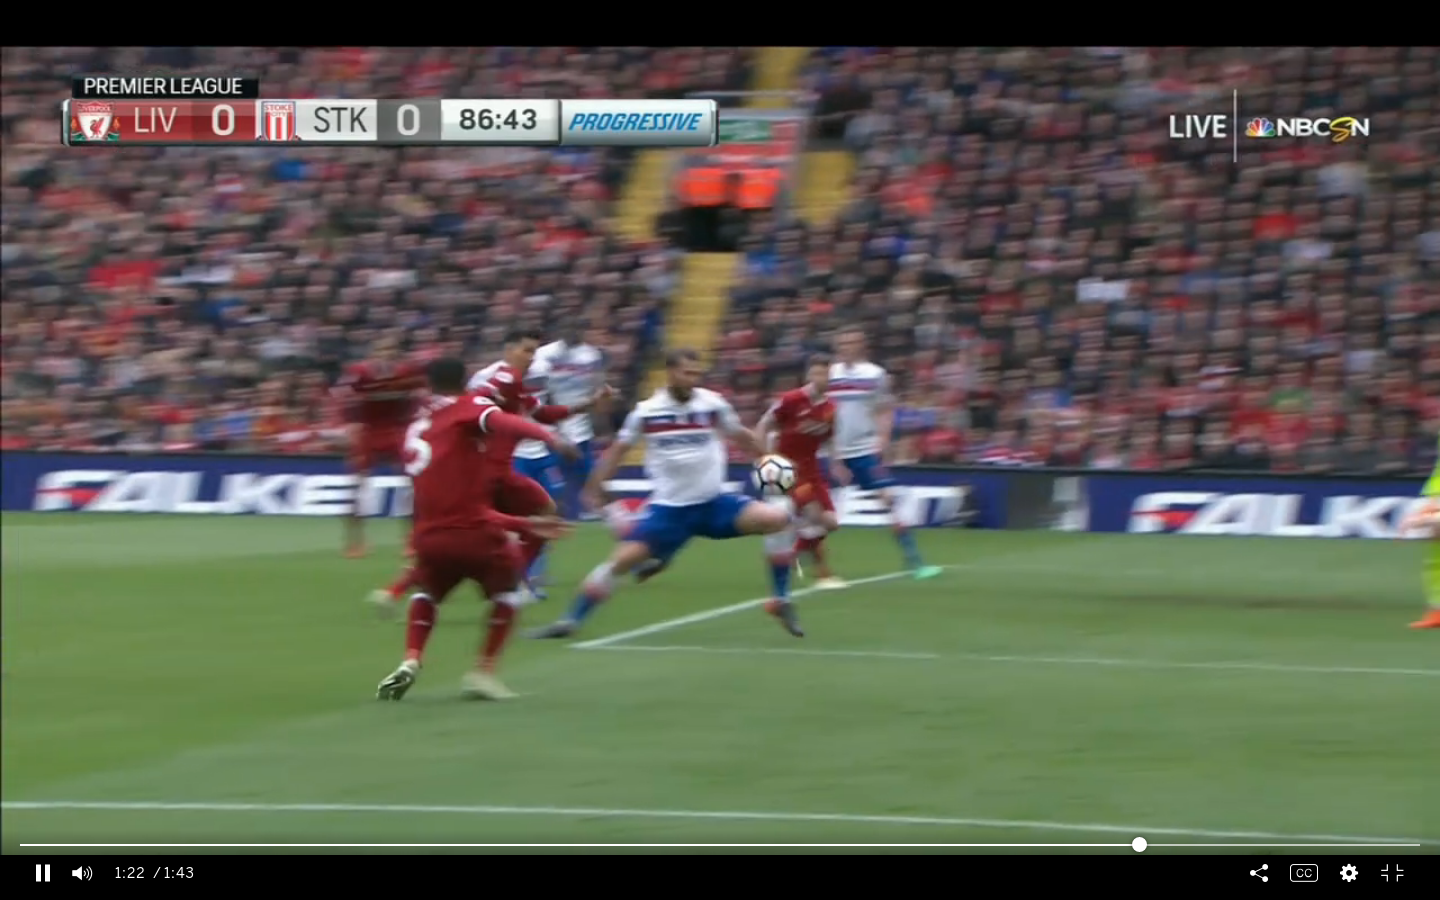soccer player: (558, 359, 796, 642), (385, 365, 539, 712), (827, 331, 942, 586), (753, 360, 852, 592)
soccerball: (748, 451, 804, 505)
